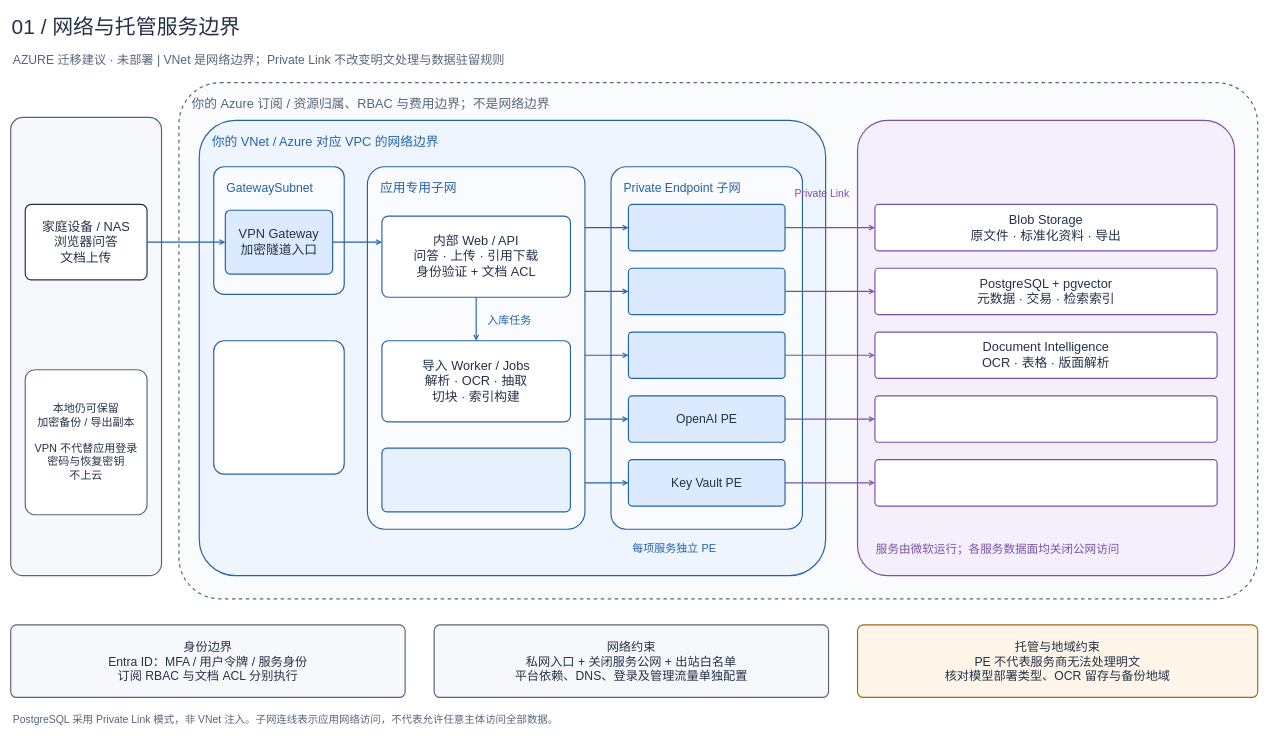
The diagram is 1268 pixels wide and 737 high, and some of its shapes have lost their labels. The shapes that lost their labels are listed below. From the top down, each one's box as (x1, y1, x2, y2) in pixels, then its label:
(628, 204, 785, 251): Blob PE
(628, 267, 785, 315): PostgreSQL PE
(10, 117, 162, 576): 本地 / 家庭网络
(628, 331, 785, 379): OCR PE
(857, 119, 1235, 576): 微软托管服务域 / VNet 外
(213, 340, 345, 474): 私有 DNS 配置 Private DNS Zones 关联 VNet VPN 须解析私有域名 必要时配置 DNS 转发
(874, 395, 1217, 443): Azure OpenAI Embedding · 抽取 · 回答
(381, 447, 571, 512): Container Apps 内部环境 VNet 集成；无公网业务入口 服务使用 Managed Identity
(874, 459, 1217, 506): Key Vault 密钥与必需的秘密
